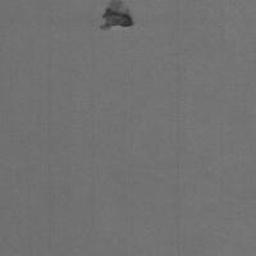Inclusion: (101, 0, 134, 29)
